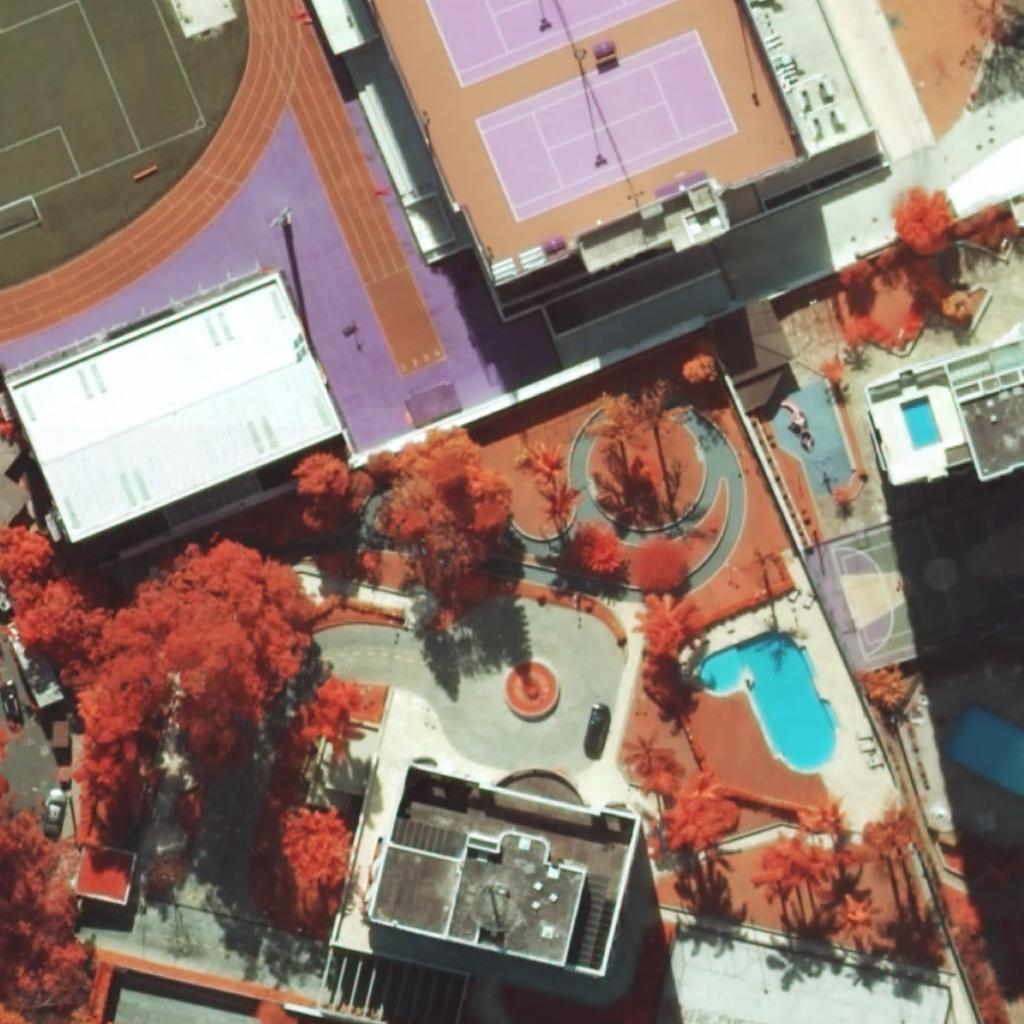pool: (698, 631, 837, 770), (942, 705, 1023, 797), (900, 395, 942, 450)
